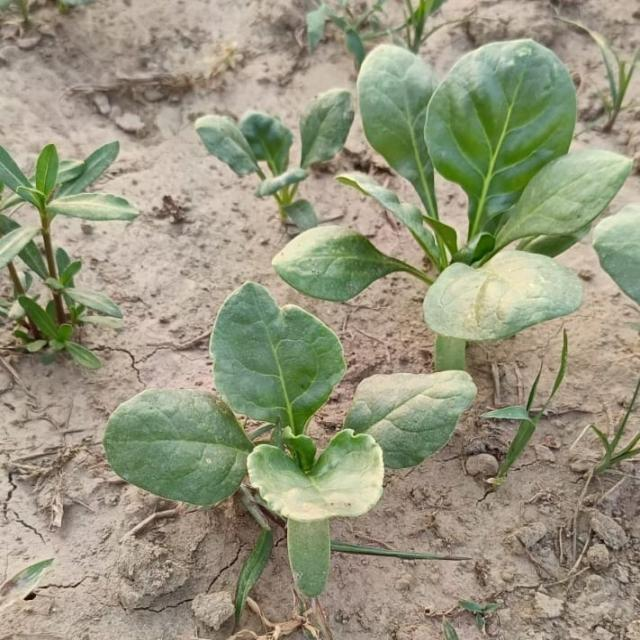plant: (104, 40, 633, 599), (197, 90, 354, 226), (597, 210, 640, 292)
